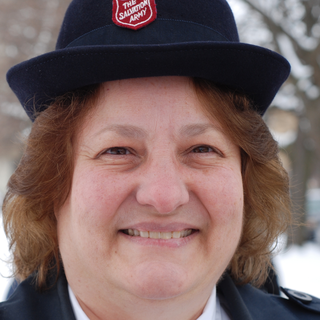eye: (94, 140, 143, 164), (178, 140, 226, 163)
